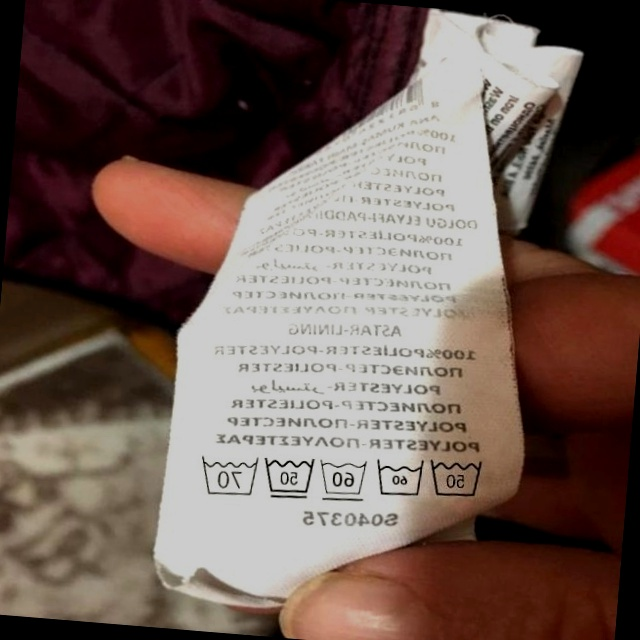50C: (424, 449, 490, 504), (258, 451, 318, 504)
60C: (313, 452, 370, 504), (370, 453, 427, 503)
70C: (192, 450, 260, 500)
